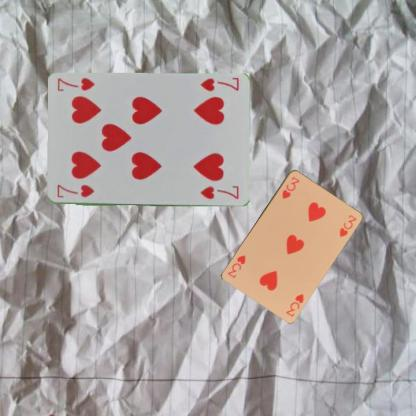3h: (279, 173, 301, 200), (283, 291, 305, 318)
7h: (54, 182, 95, 199), (197, 76, 240, 92)
